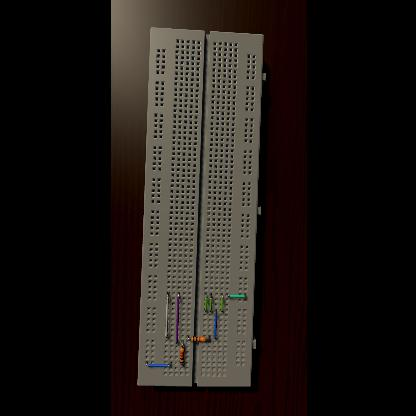breadboard: (136, 27, 264, 387)
resistor: (178, 348, 184, 364), (190, 336, 204, 342)
wire: (174, 292, 178, 343), (164, 292, 168, 338), (212, 310, 216, 338), (144, 362, 170, 366), (226, 294, 244, 298), (220, 294, 222, 312), (209, 294, 211, 312), (204, 294, 206, 312), (180, 340, 182, 348), (206, 336, 209, 340), (186, 336, 190, 338)
